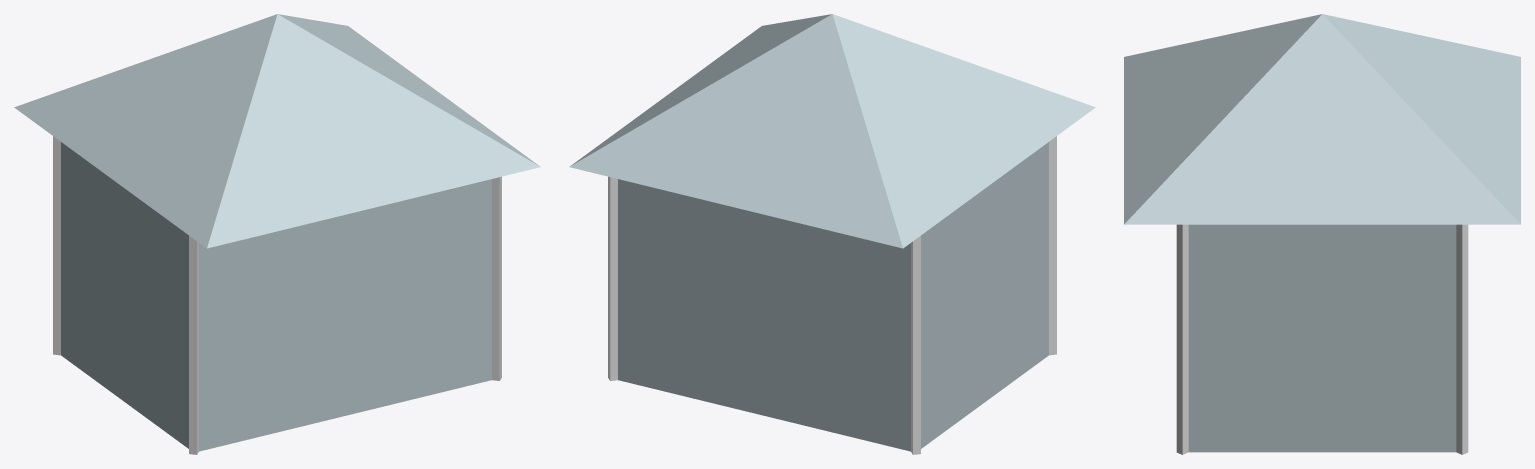
The model's file is greenhouse.glb.
The picture shows the model from 3 angles, left to right: view 1: azimuth 30°, elevation 25°; view 2: azimuth 150°, elevation 25°; view 3: azimuth 270°, elevation 25°; orthographic projection. The views are drawn at different scales.
Parts seen in each view (by area): view 1: Greenhouse.001; view 2: Greenhouse.001; view 3: Greenhouse.001.
Boxes of the visible parts, x1,y1,x2,y2 form: Greenhouse.001: (14,14,540,454); Greenhouse.001: (569,14,1095,454); Greenhouse.001: (1124,14,1520,454).
Size of the model in its own units: 1.99 by 2 by 1.99.
